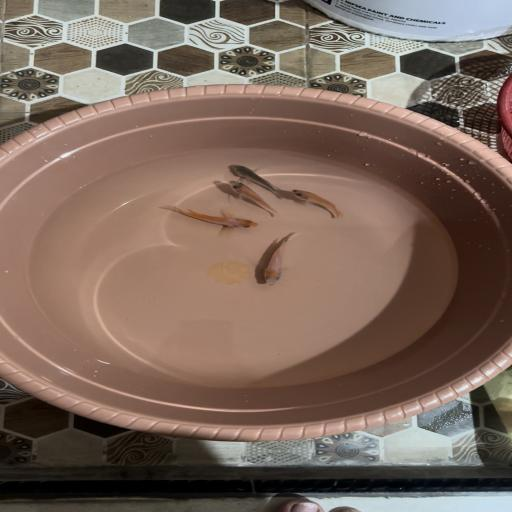nila: (156, 201, 268, 233), (251, 232, 305, 292), (286, 185, 348, 224), (222, 180, 279, 221), (230, 162, 293, 199)
